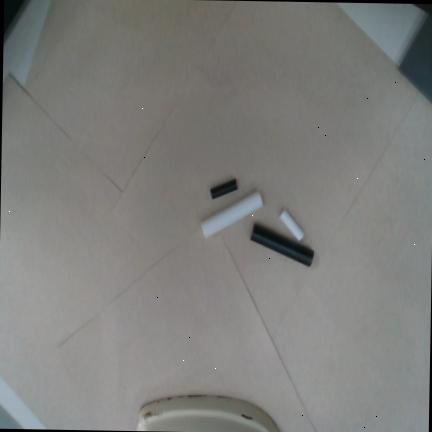Cilindro: (200, 191, 263, 239), (249, 221, 313, 267), (278, 208, 306, 243), (209, 178, 237, 199)
